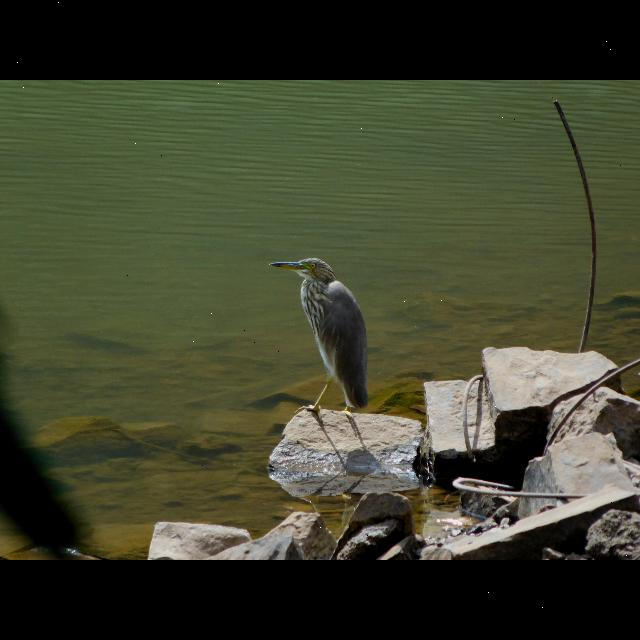heron: (263, 254, 377, 420)
